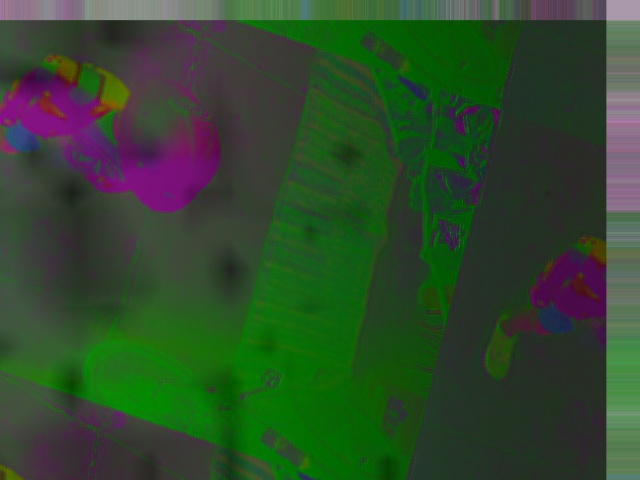eight: (165, 91, 215, 125)
